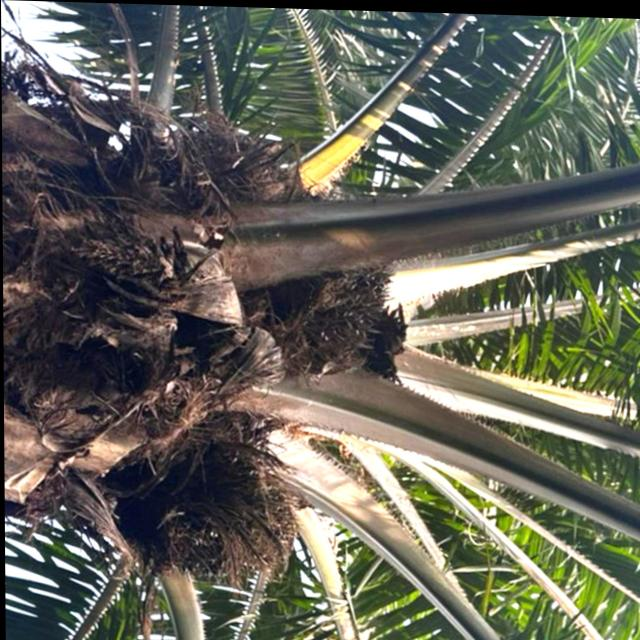ripe: (277, 249, 398, 384)
